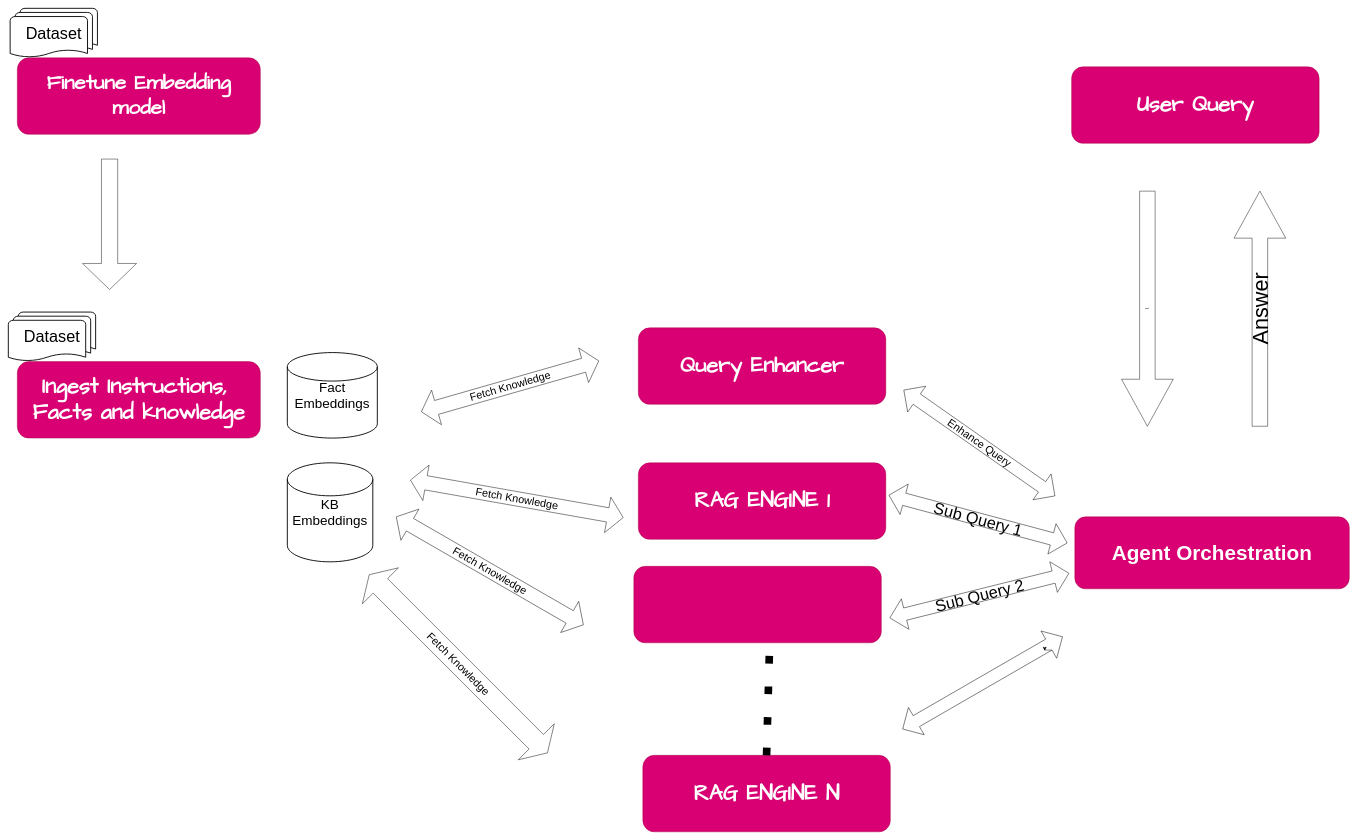
Some shapes in this 1357 by 840 pixel diagram are drawn without their labels. The centre of each missing label's shape, as x and y in pixels:
"RAG ENGINE 2" belongs at (757,604).
"Sub Query N" belongs at (982,683).
